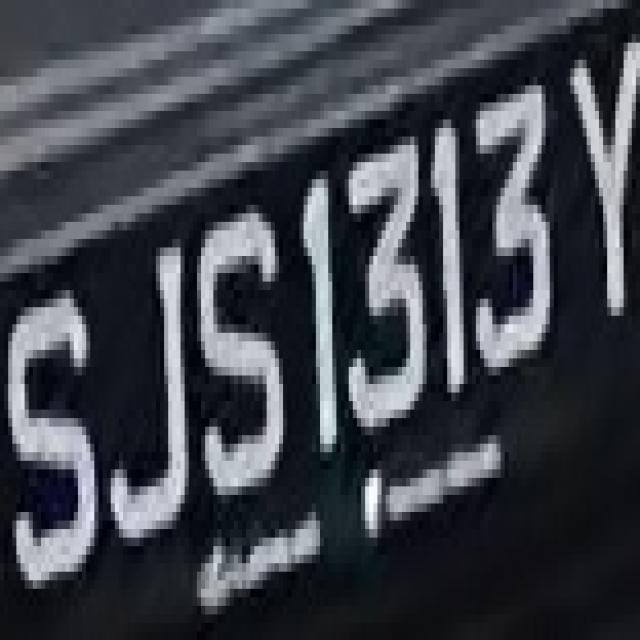1: (427, 120, 476, 418), (296, 153, 340, 478)
3: (464, 68, 550, 401), (341, 136, 426, 461)
J: (107, 205, 205, 589)
S: (193, 213, 291, 529), (12, 247, 94, 623)
Y: (549, 16, 640, 341)
